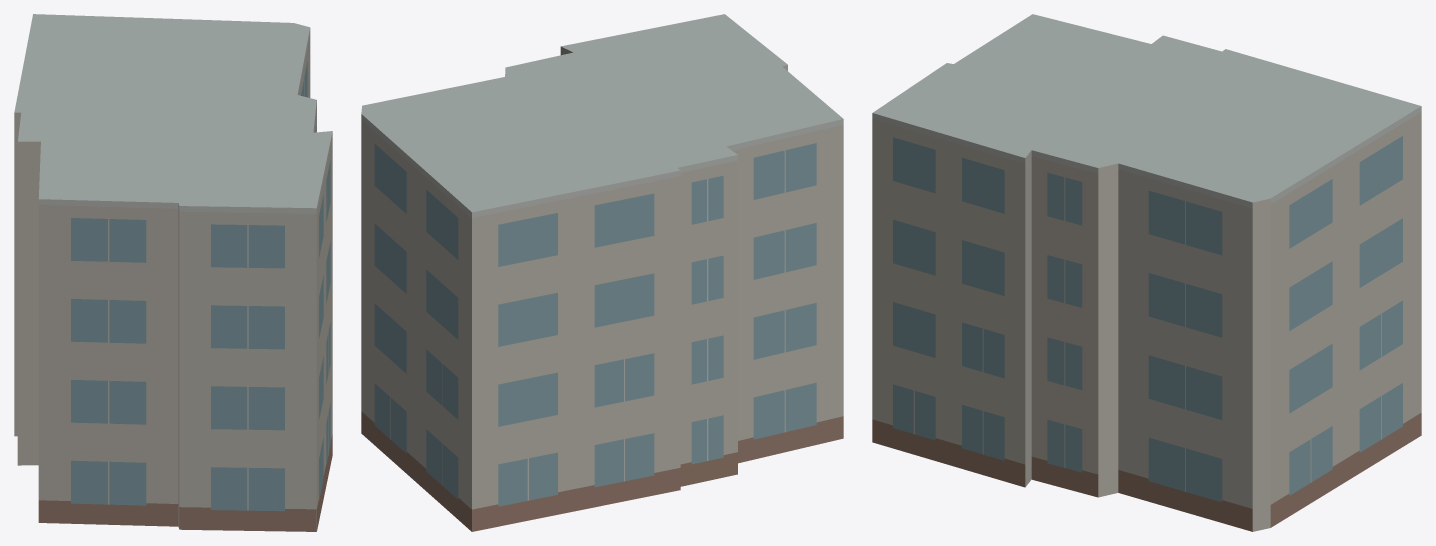
The model's file is survey-upis-32929931.glb.
3 views of the same model, side by side, from view 1: azimuth 30°, elevation 25°; view 2: azimuth 150°, elevation 25°; view 3: azimuth 270°, elevation 25° (orthographic). The views are drawn at different scales.
Visible parts, largest first — view 1: survey-upis-32929931.tmp; view 2: survey-upis-32929931.tmp; view 3: survey-upis-32929931.tmp.
Boxes of the visible parts, left/top/right/bottom form: survey-upis-32929931.tmp: left=14, top=14, right=332, bottom=531; survey-upis-32929931.tmp: left=361, top=14, right=843, bottom=531; survey-upis-32929931.tmp: left=872, top=14, right=1421, bottom=531.
Bounding box in the file's own units: 16.89 × 13.75 × 20.79.
